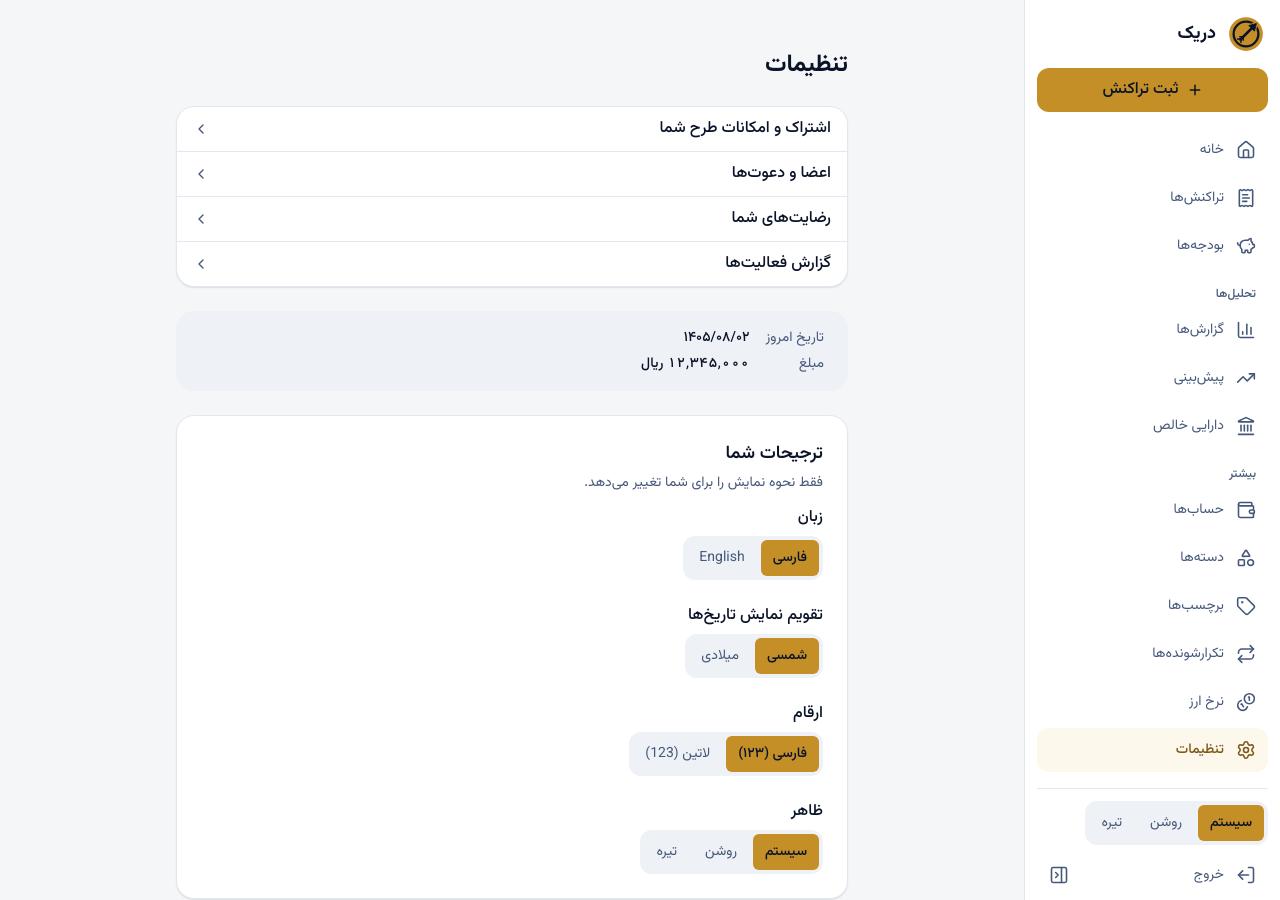
it: Members page › opens from Settings and lists everyone with their Role
Click the link "اعضا و دعوت‌ها".
click(781, 174)  # box [193, 161, 831, 186]
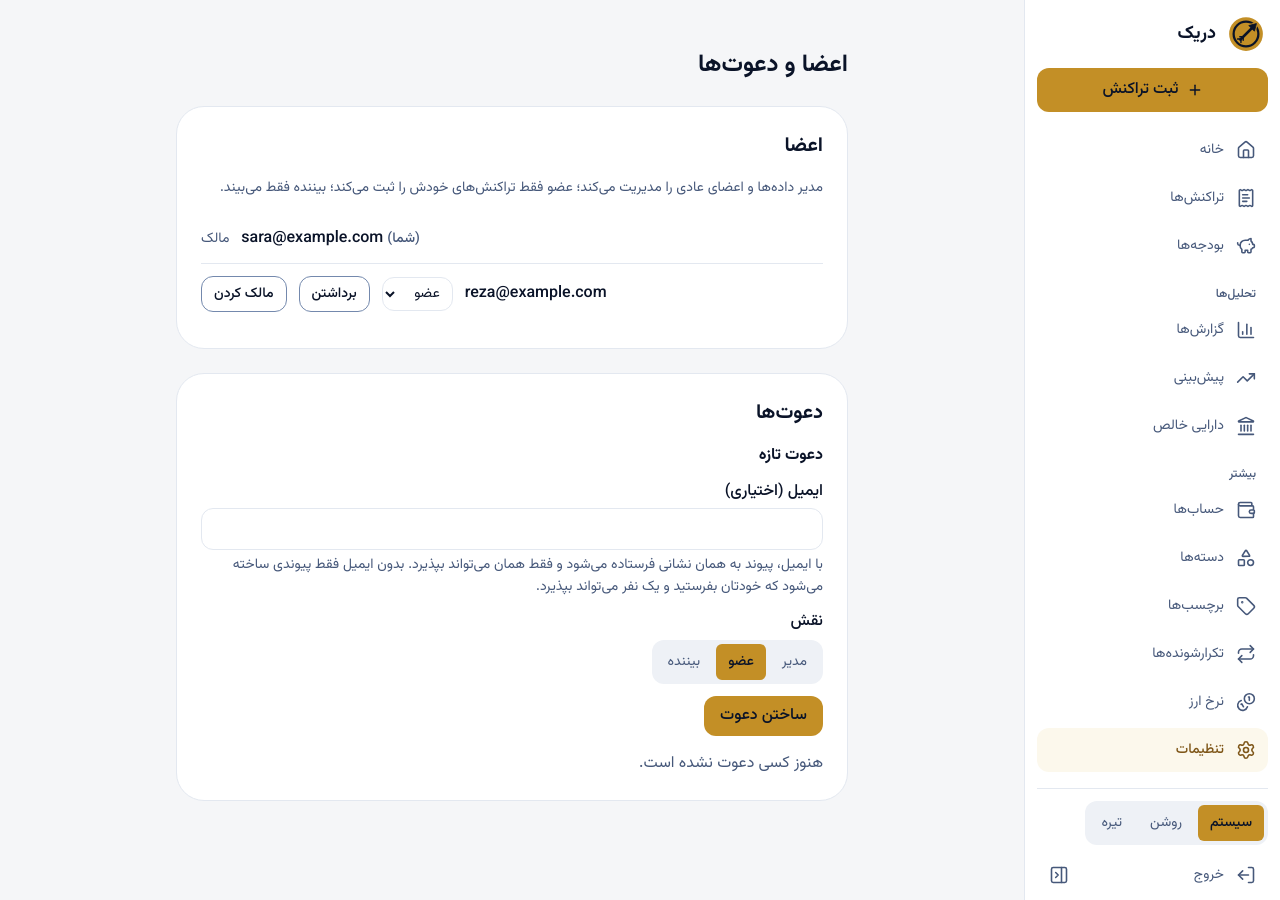
Expected: the text "sara@example.com" is shown, [241, 226, 383, 251]
Expected: the text "(شما)" is shown, [387, 228, 420, 250]
Expected: the text "مالک" is shown, [201, 228, 229, 250]
